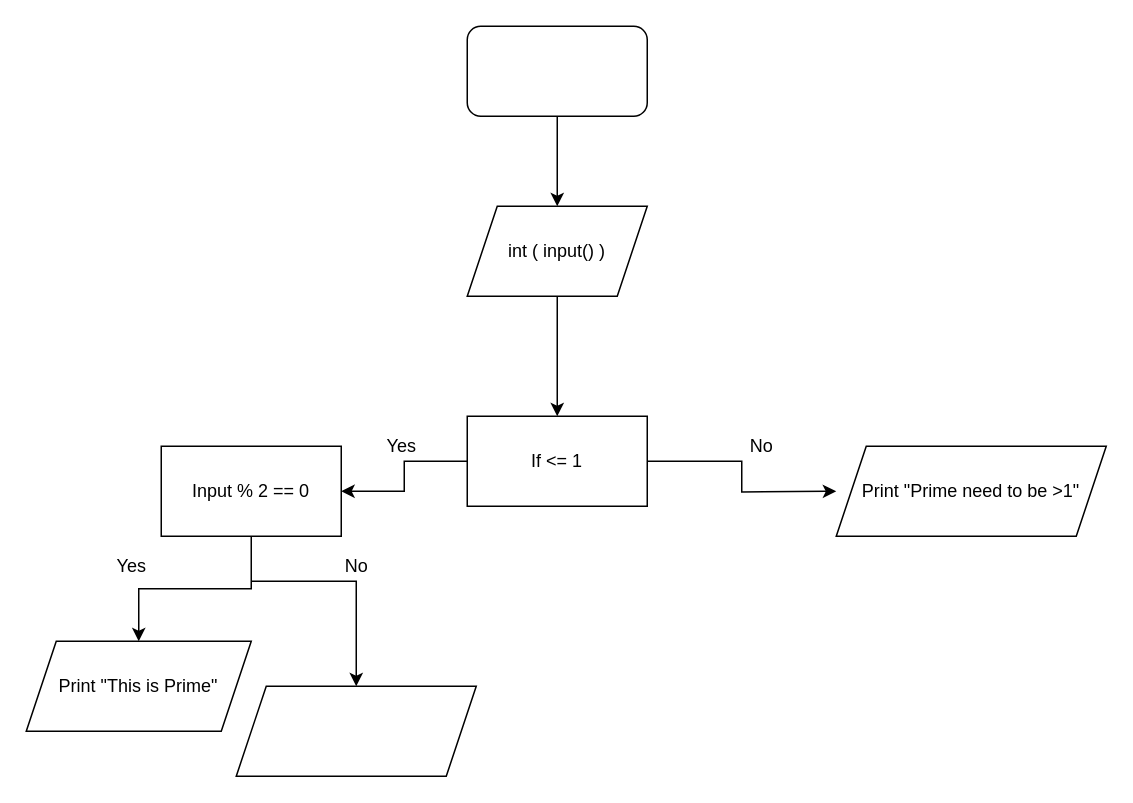
Image size: 1133x803. Some labels were removed from this diagram. The centre of each missing label's shape, as x and y in pixels:
Print "This is not Prime": point (355, 730)
Start: point (556, 70)
